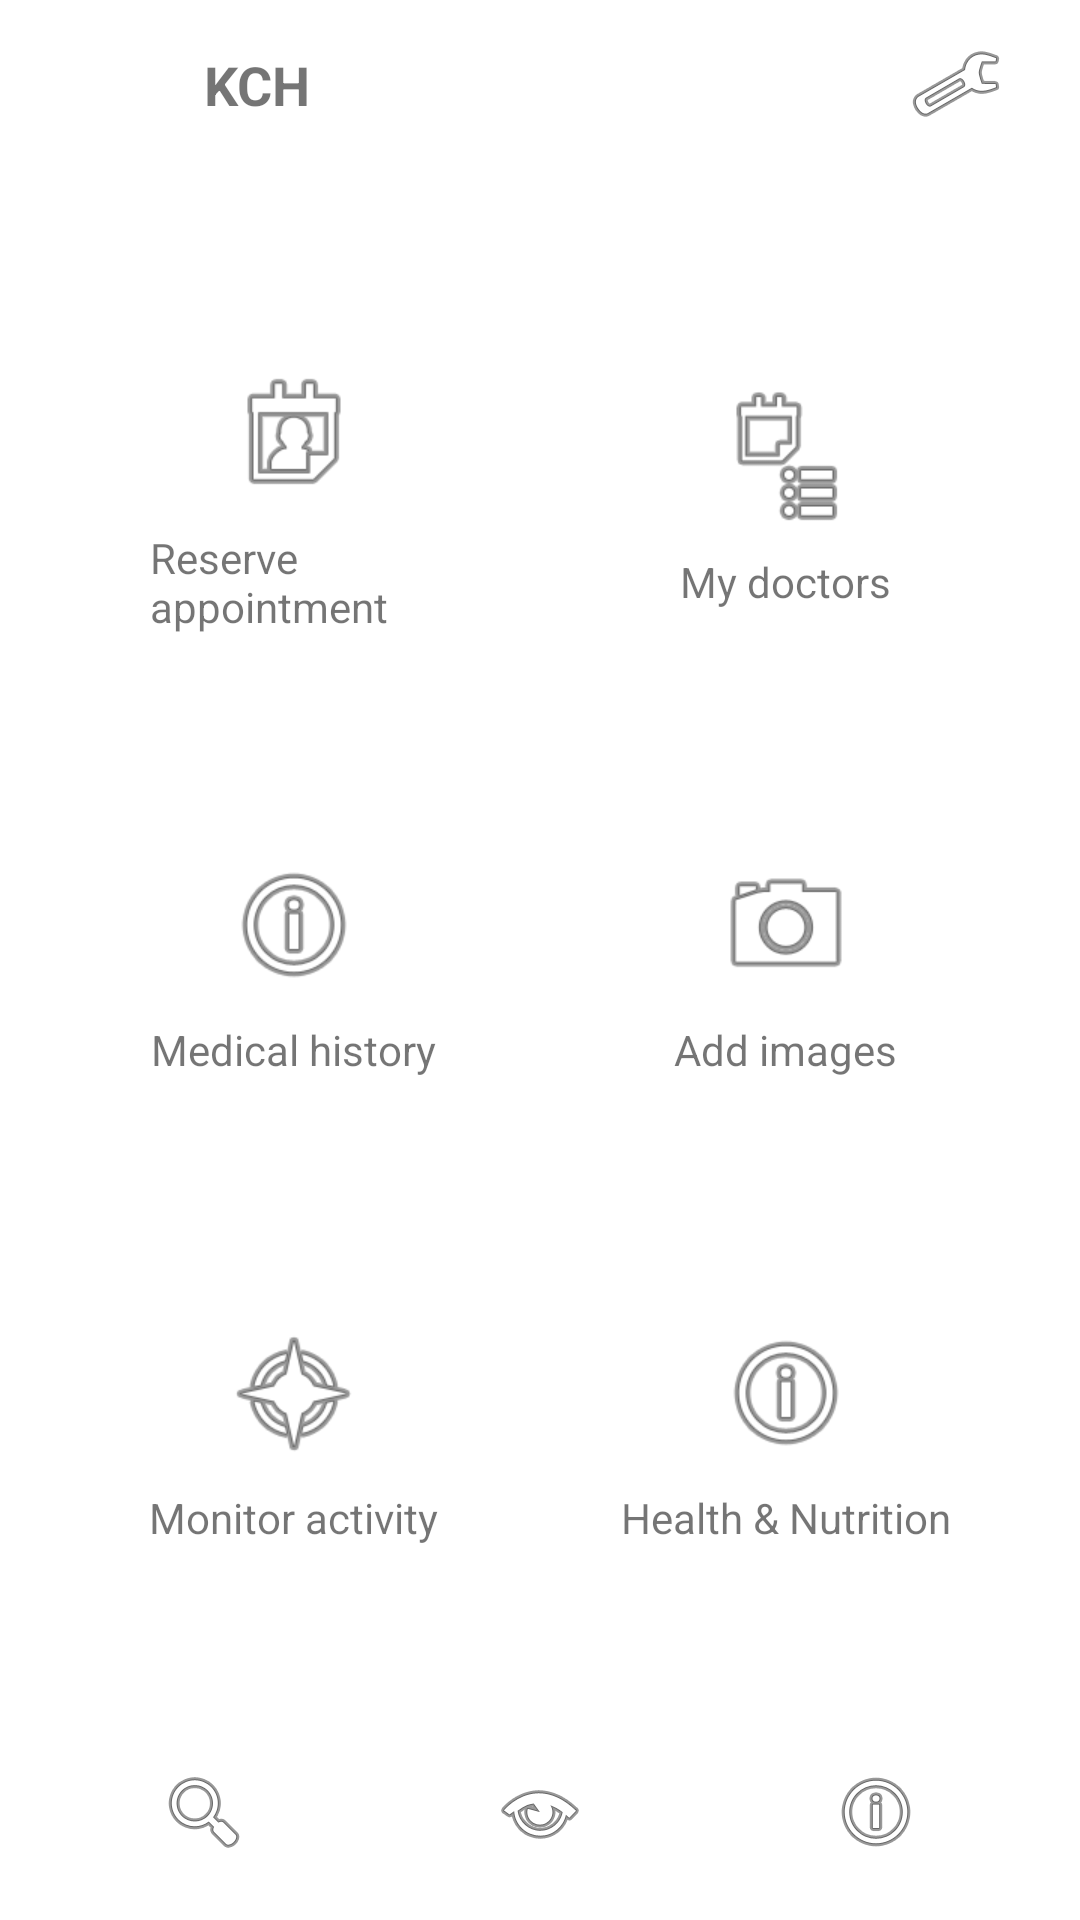

Screen size 1080px x 1920px. Icon name, then its center in pixels as (x=x, y=y):
agenda: (x=786, y=456)
calendar: (x=294, y=431)
camera: (x=786, y=922)
compass: (x=293, y=1394)
info details: (x=294, y=925), (x=786, y=1393), (x=876, y=1812)
search: (x=204, y=1812)
view: (x=540, y=1814)
